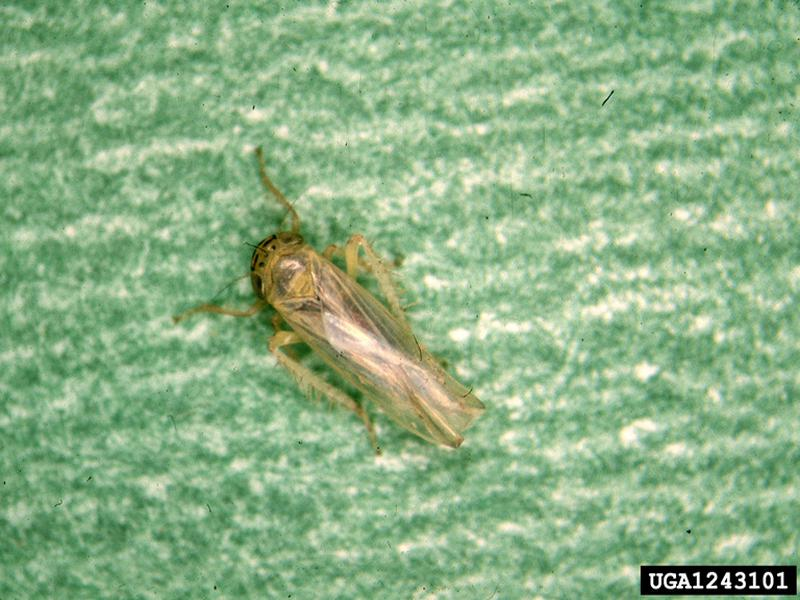Brown_plant_leafhopper: (231, 209, 494, 466)
